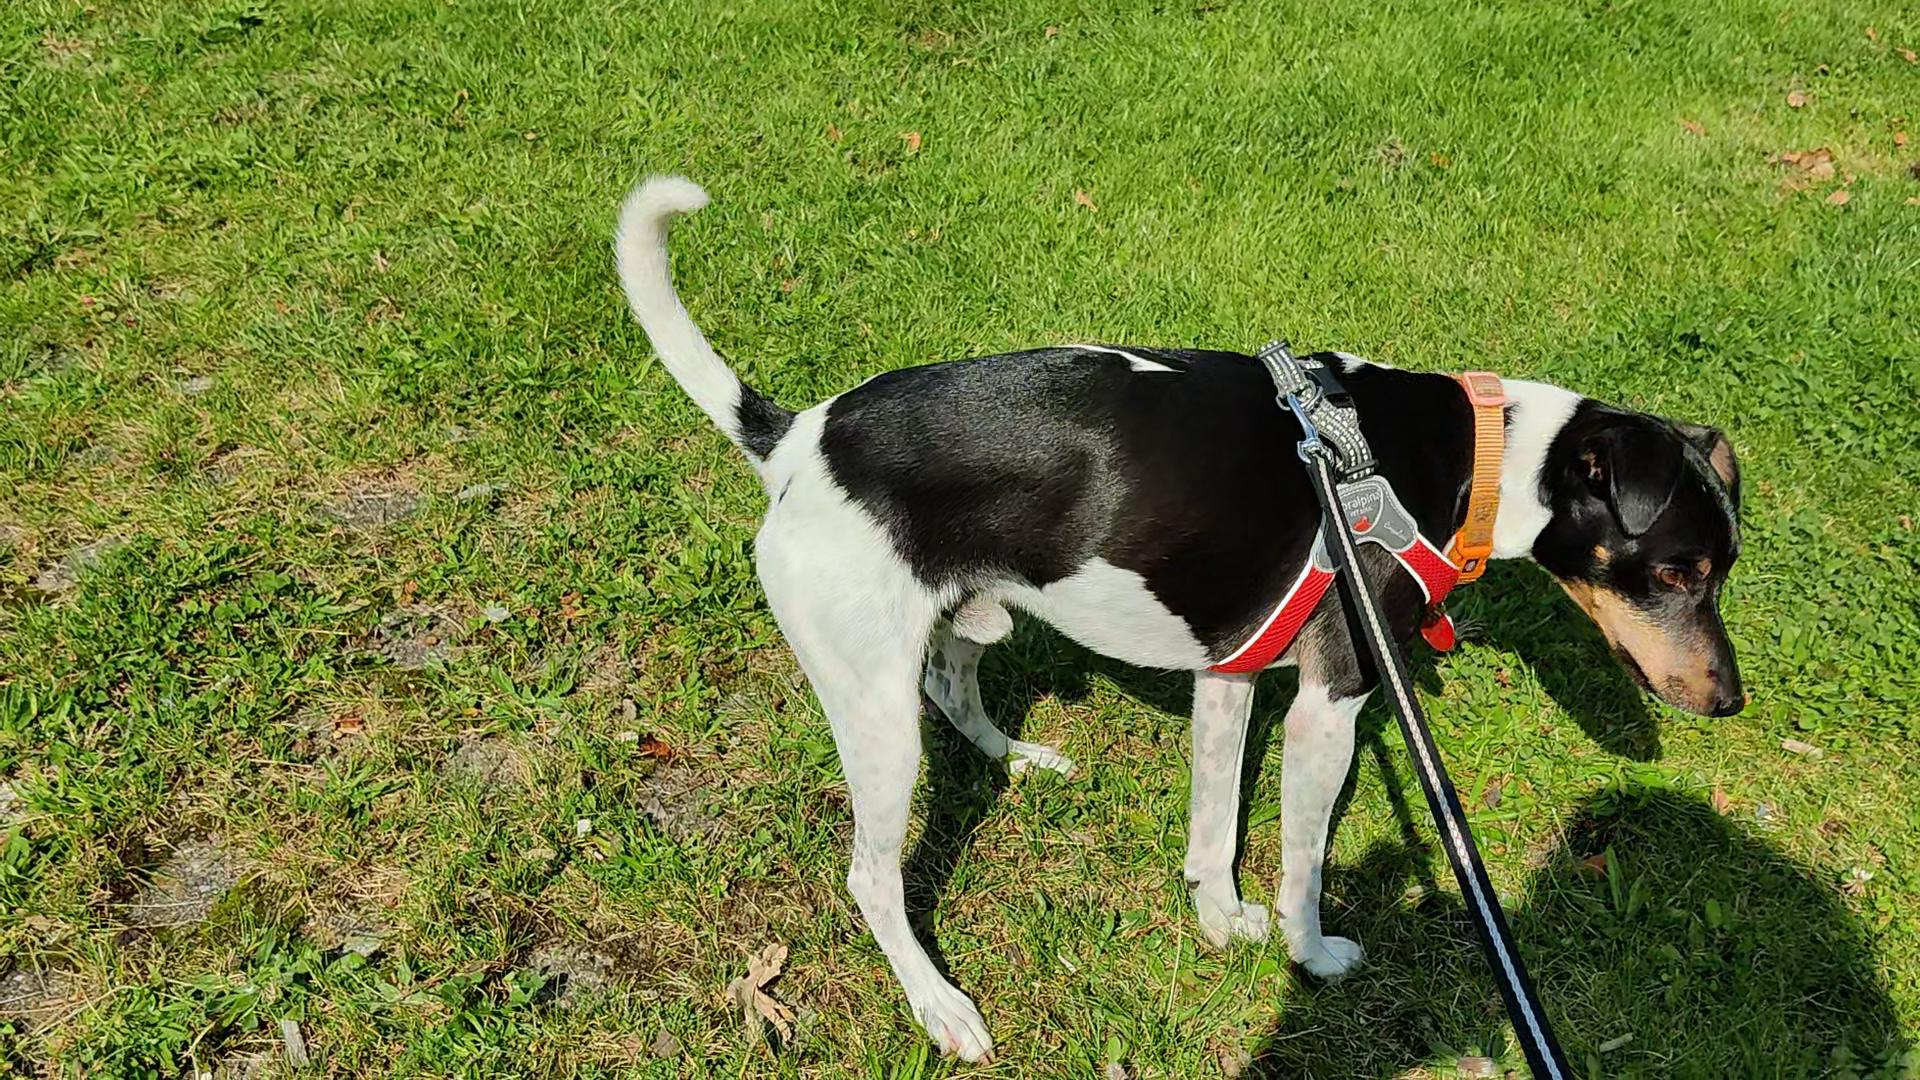Dog: (612, 167, 1751, 1065)
